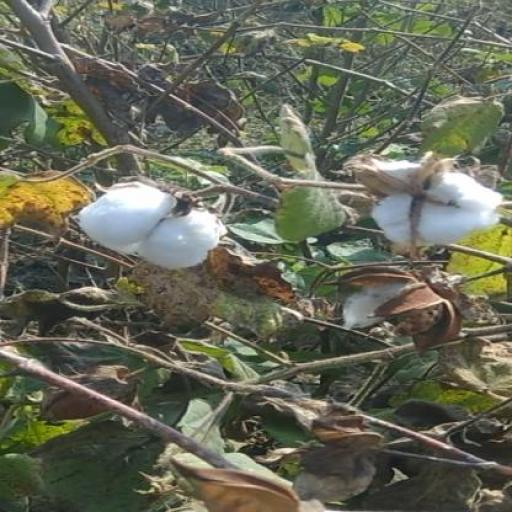cotton_ready: (48, 166, 254, 286), (339, 150, 497, 267)
